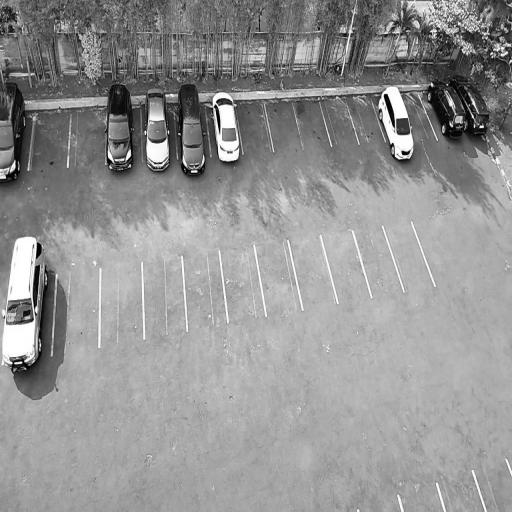Car: (1, 231, 50, 373), (372, 79, 419, 166), (175, 81, 209, 178), (421, 76, 469, 144), (0, 78, 29, 186), (105, 81, 136, 175), (208, 88, 243, 171), (448, 69, 490, 137), (142, 82, 172, 176)
Space Available: (53, 268, 99, 355), (255, 240, 302, 317), (321, 231, 371, 303), (101, 263, 143, 348), (289, 235, 337, 309), (353, 226, 402, 298), (143, 256, 186, 338), (183, 251, 227, 331), (384, 222, 434, 292), (220, 246, 266, 322), (29, 113, 70, 170), (69, 111, 106, 167), (473, 459, 512, 512), (438, 472, 485, 512), (236, 103, 273, 153), (265, 103, 303, 151), (319, 100, 359, 145), (346, 98, 385, 143), (293, 102, 331, 147), (403, 94, 437, 141), (398, 484, 444, 512)
